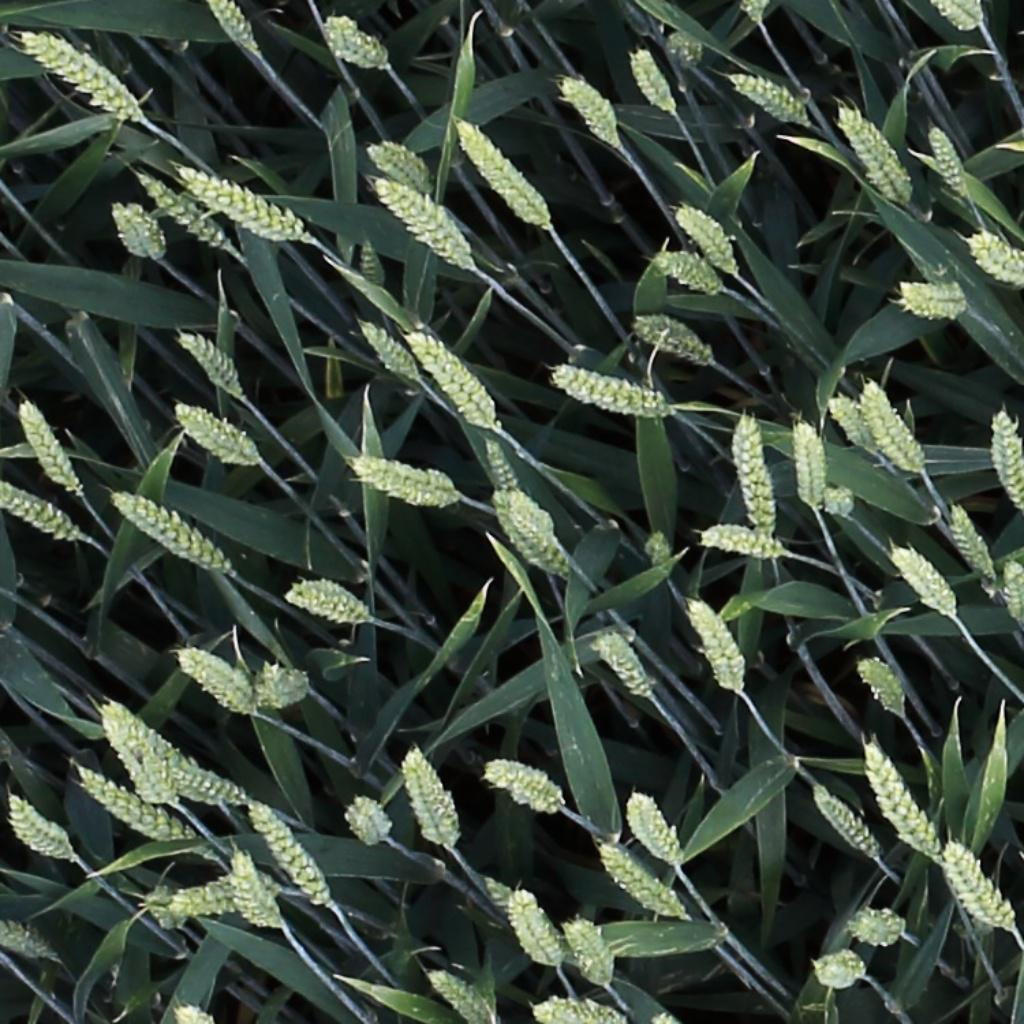0-0: (95, 708, 244, 807), (107, 491, 239, 579), (857, 741, 946, 868), (450, 113, 548, 226), (173, 165, 308, 247), (20, 31, 141, 122), (241, 797, 333, 913), (404, 326, 496, 434), (132, 167, 240, 255), (75, 771, 185, 845), (371, 176, 466, 260), (835, 101, 912, 204), (12, 393, 84, 501), (96, 707, 172, 809), (400, 742, 466, 855), (942, 839, 1015, 933), (858, 376, 925, 476), (596, 845, 682, 922), (491, 495, 567, 581), (806, 785, 884, 866), (684, 596, 745, 696), (733, 409, 783, 531), (348, 455, 462, 508), (548, 364, 663, 413), (169, 647, 251, 714), (888, 543, 958, 621), (170, 405, 258, 467), (504, 889, 564, 978), (173, 327, 243, 401), (671, 199, 740, 274), (555, 73, 622, 150), (622, 789, 682, 872), (944, 499, 1000, 585), (225, 846, 281, 932), (0, 483, 80, 543), (593, 629, 653, 705), (5, 795, 73, 862), (103, 195, 169, 264), (354, 316, 419, 385), (922, 117, 973, 202), (481, 760, 564, 812), (149, 879, 244, 924), (791, 415, 832, 517), (282, 576, 372, 622), (729, 72, 808, 124), (626, 43, 679, 120), (823, 390, 883, 458), (561, 914, 614, 988), (630, 315, 711, 363), (853, 656, 909, 722), (991, 405, 1024, 514), (424, 968, 490, 1022), (322, 16, 386, 70), (363, 139, 428, 192), (203, 0, 260, 60), (341, 798, 399, 853), (532, 993, 632, 1024), (695, 523, 786, 557), (477, 430, 520, 501), (895, 279, 969, 320), (651, 251, 720, 292), (969, 234, 1024, 283), (847, 904, 905, 950), (251, 664, 308, 710), (353, 229, 385, 294), (0, 920, 50, 961), (933, 0, 987, 33), (1002, 555, 1024, 632), (648, 526, 676, 585), (740, 0, 768, 30)
